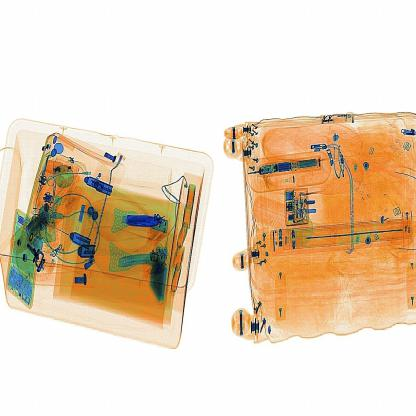knife: (120, 211, 169, 235)
